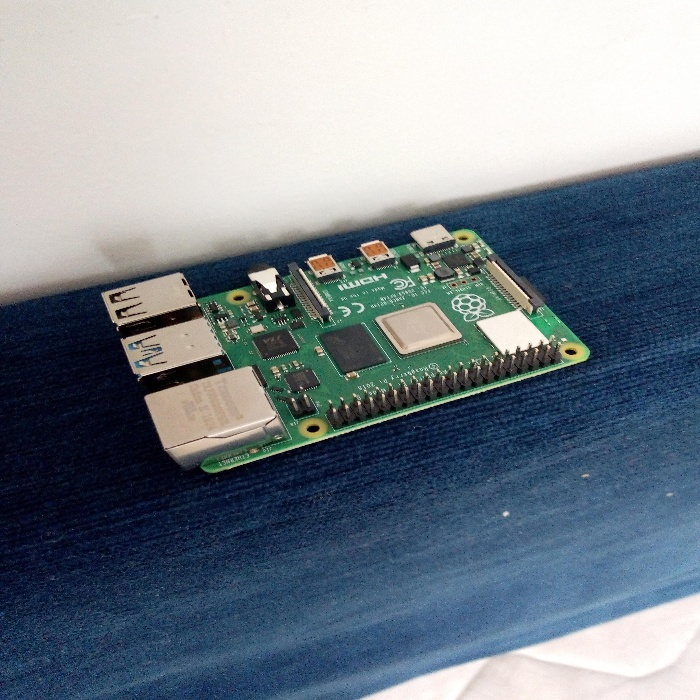raspberry: (93, 211, 606, 469)
